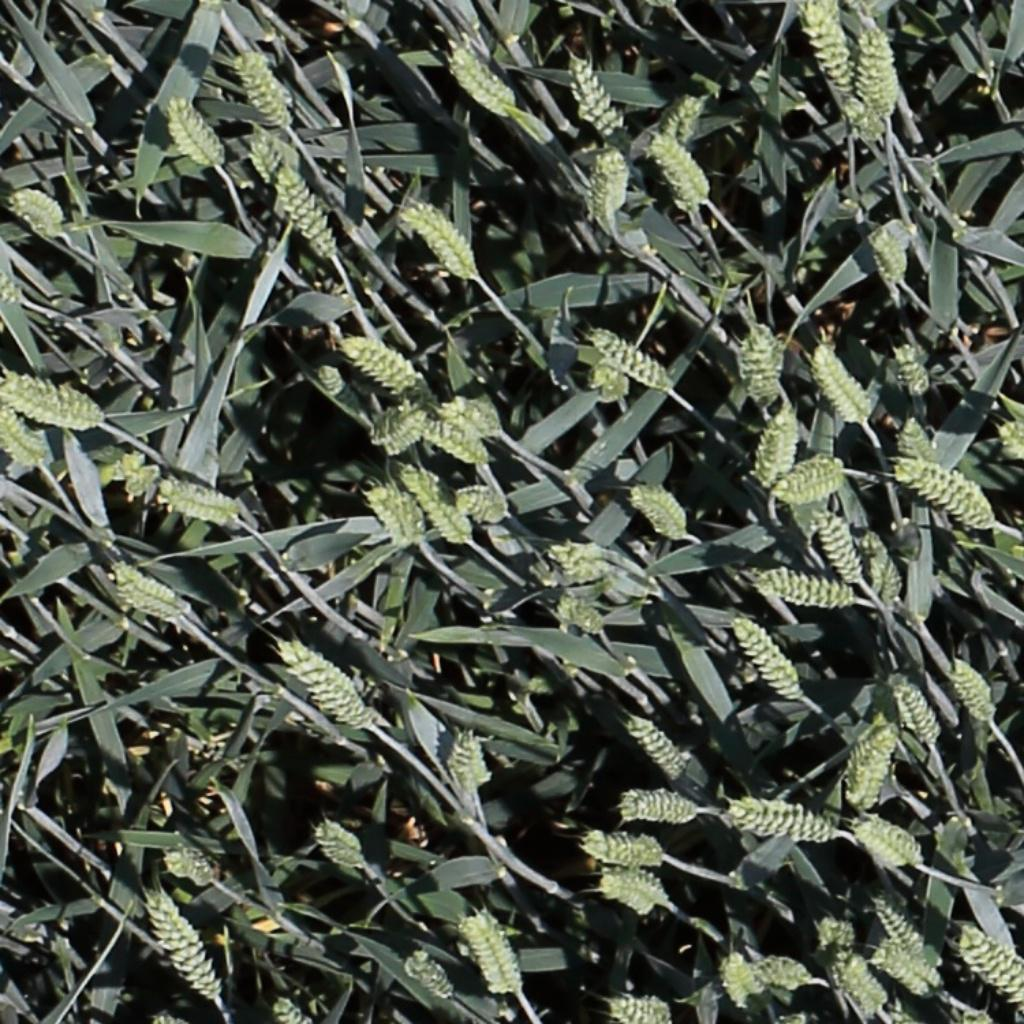0-0: (144, 887, 225, 1004), (279, 640, 370, 724), (872, 891, 948, 985), (0, 371, 111, 434), (566, 47, 633, 148), (733, 613, 806, 704), (274, 161, 341, 260), (899, 461, 995, 528), (719, 796, 842, 848), (401, 462, 475, 547), (401, 200, 479, 279), (342, 335, 431, 401), (959, 922, 1024, 1011), (802, 0, 858, 101), (813, 339, 876, 428), (232, 47, 297, 133), (458, 909, 520, 999), (589, 326, 674, 391), (752, 564, 859, 613), (649, 131, 715, 208), (165, 90, 228, 170), (812, 502, 868, 592), (156, 477, 246, 532), (626, 712, 692, 786), (533, 536, 620, 591), (736, 317, 789, 407), (851, 724, 903, 813), (450, 46, 518, 113), (575, 144, 632, 222), (891, 674, 946, 753), (613, 788, 711, 832), (770, 452, 848, 507), (860, 23, 901, 126), (578, 827, 676, 870), (752, 407, 800, 493), (947, 655, 1000, 730), (593, 870, 674, 917), (365, 483, 421, 550), (110, 567, 184, 617), (416, 417, 492, 464), (104, 450, 163, 509), (846, 947, 897, 1014), (862, 528, 903, 611), (630, 484, 690, 540), (866, 950, 935, 997), (0, 402, 49, 468), (899, 412, 948, 477), (858, 821, 924, 869), (717, 943, 759, 1014), (871, 219, 913, 289), (405, 948, 457, 1004), (455, 483, 518, 528), (663, 87, 707, 151), (453, 724, 488, 804), (747, 952, 812, 994), (826, 918, 858, 1003), (894, 338, 936, 402), (441, 398, 502, 438), (247, 124, 283, 191), (557, 589, 607, 637), (841, 90, 888, 140), (382, 406, 428, 456), (8, 187, 62, 225), (308, 821, 359, 857), (314, 357, 348, 401), (610, 998, 671, 1022), (995, 419, 1024, 464), (268, 991, 307, 1024), (0, 244, 20, 300), (146, 1004, 193, 1024)
